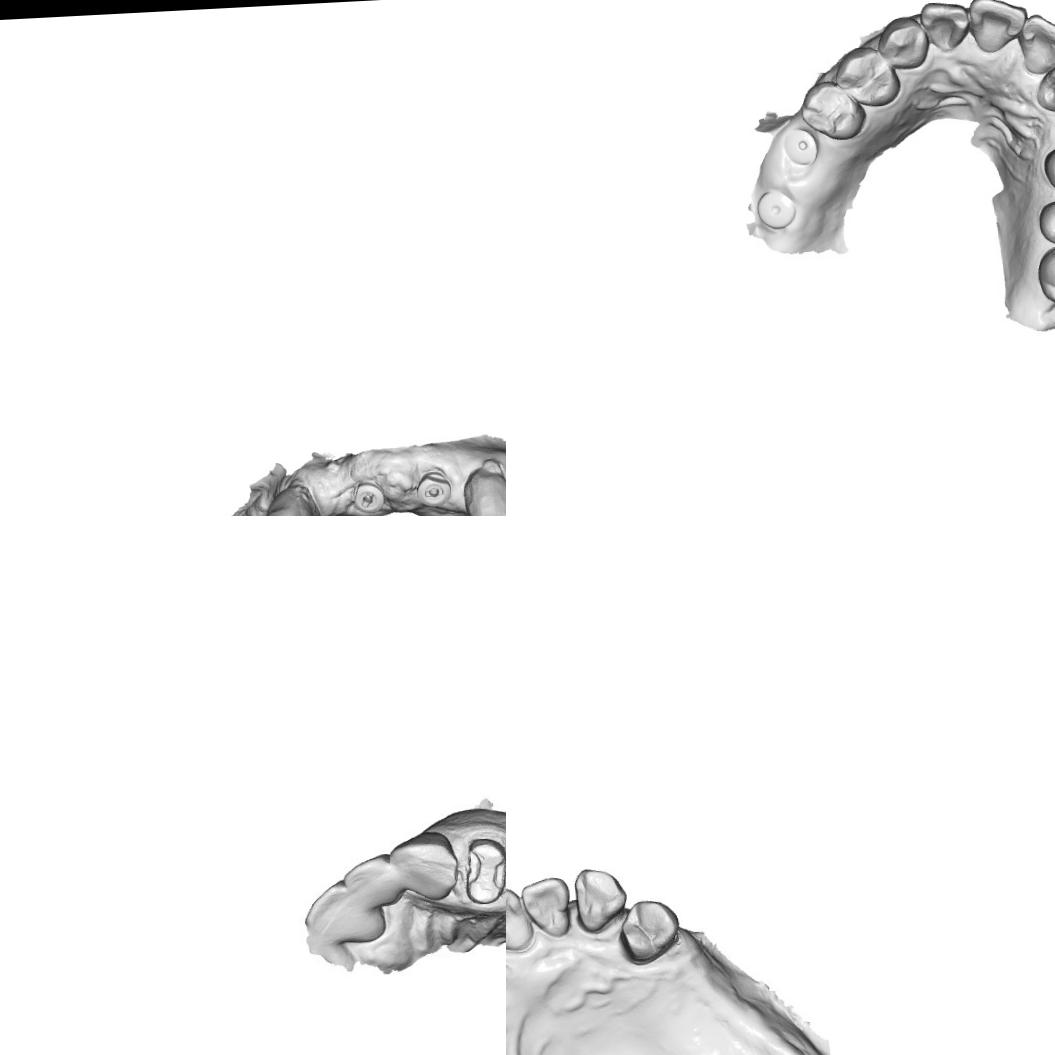canine: (387, 829, 459, 902), (571, 866, 628, 932), (875, 14, 931, 71), (460, 465, 506, 516), (249, 486, 314, 516)
crown: (458, 833, 506, 906)
implant: (754, 187, 797, 230), (780, 125, 818, 168)
implant_minus: (350, 478, 389, 512), (417, 469, 451, 504)
incisor: (302, 876, 384, 944), (966, 0, 1029, 55), (338, 854, 396, 908), (918, 0, 970, 54), (1017, 10, 1055, 76), (522, 876, 568, 929), (506, 890, 535, 953), (1033, 61, 1055, 115)
molar: (1035, 242, 1055, 312)
premolar: (833, 43, 902, 108), (798, 77, 866, 142), (619, 898, 681, 964)
